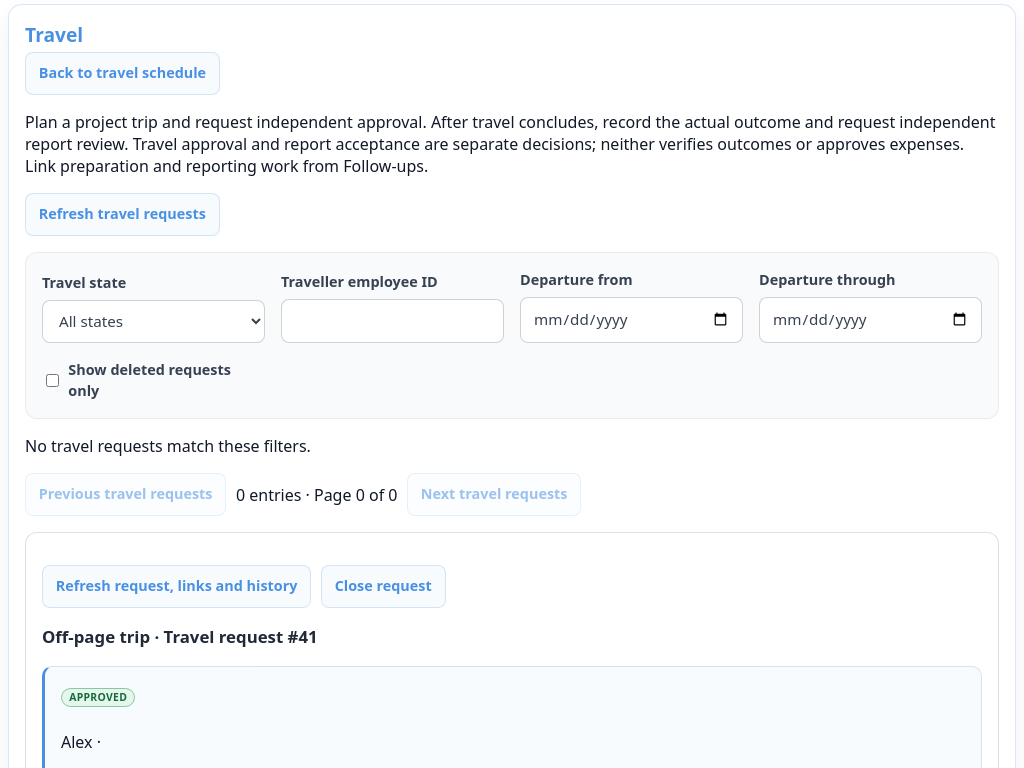
Test case: deep link opens exact detail even when first list page is empty
This screenshot has width=1024, height=768.
Expected: the heading "Off-page trip · Travel request #41" is shown, x1=42 y1=625 x2=318 y2=648
Click the button "Close request": [383, 586] box x1=321 y1=565 x2=446 y2=608
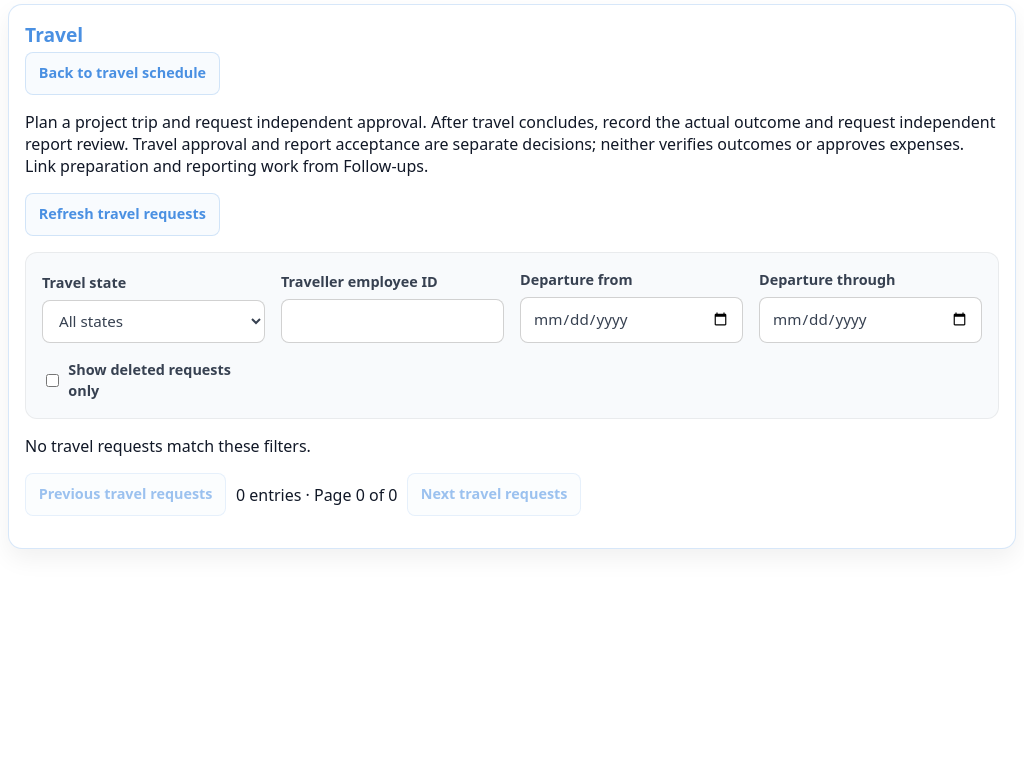
Now the heading "Off-page trip · Travel request #41" is gone
